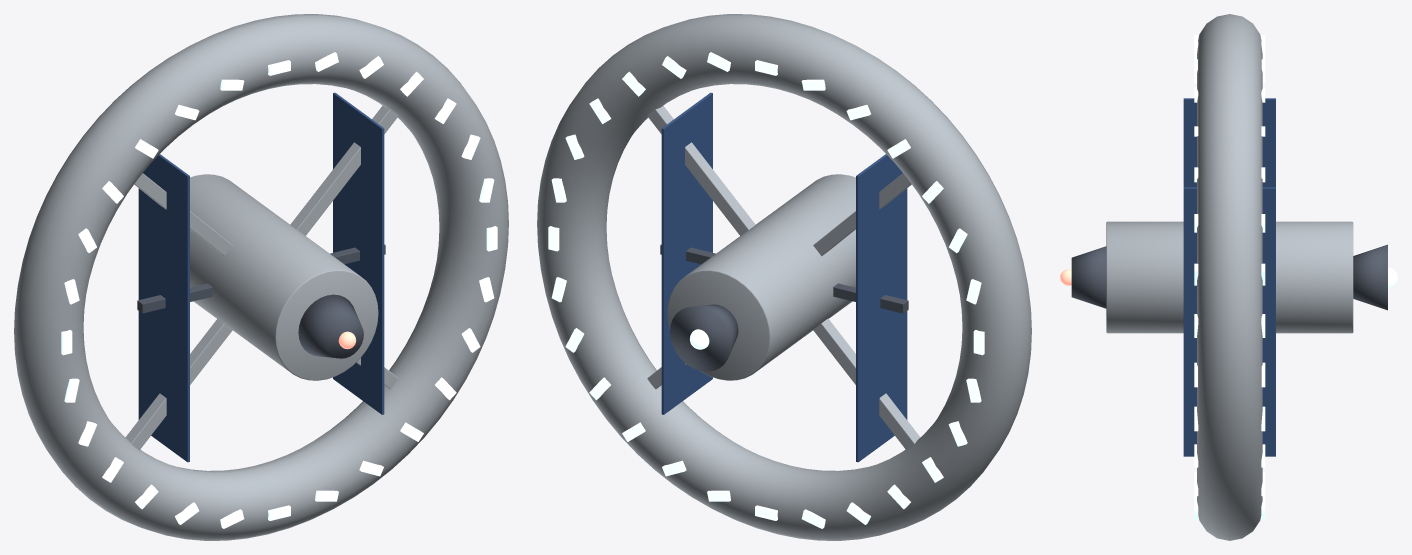
The model's file is station.glb.
3 renders of one model, left to right at view 1: azimuth 30°, elevation 25°; view 2: azimuth 150°, elevation 25°; view 3: azimuth 270°, elevation 25°, orthographic. The views are drawn at different scales.
Visible parts, largest first — view 1: ring, hub, panel, panel.001, cap, spoke, spoke.002, spoke.001, panelarm; view 2: ring, hub, panel, panel.001, cap.001, spoke, spoke.002, spoke.001, panelarm; view 3: ring, hub, panel.001, panel, cap.001, cap.
Boxes of the visible parts, <box> form: ring: <box>14,14,508,540</box>; hub: <box>190,174,378,380</box>; panel: <box>138,154,189,462</box>; panel.001: <box>333,92,384,414</box>; cap: <box>298,294,363,358</box>; spoke: <box>290,105,398,235</box>; spoke.002: <box>125,318,232,450</box>; spoke.001: <box>134,173,232,256</box>; panelarm: <box>137,283,212,313</box>; ring: <box>537,14,1031,540</box>; hub: <box>667,174,855,380</box>; panel: <box>856,154,907,462</box>; panel.001: <box>661,92,712,414</box>; cap.001: <box>670,304,738,371</box>; spoke: <box>647,105,755,235</box>; spoke.002: <box>813,318,920,450</box>; spoke.001: <box>813,173,911,256</box>; panelarm: <box>833,283,908,313</box>; ring: <box>1197,14,1262,540</box>; hub: <box>1106,221,1353,333</box>; panel.001: <box>1183,187,1275,456</box>; panel: <box>1183,98,1275,187</box>; cap.001: <box>1353,244,1387,310</box>; cap: <box>1071,246,1106,308</box>.
Size of the model in its own units: 16 by 16 by 10.25.
